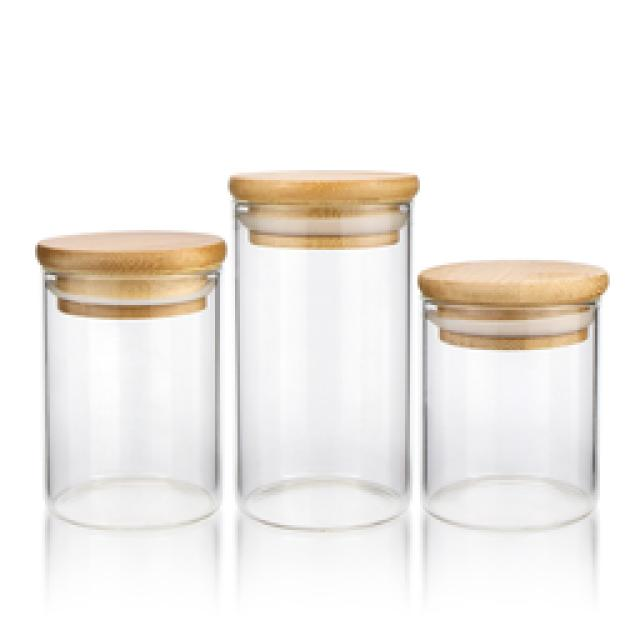glass: (235, 211, 408, 530), (45, 265, 228, 528), (420, 298, 592, 528)
